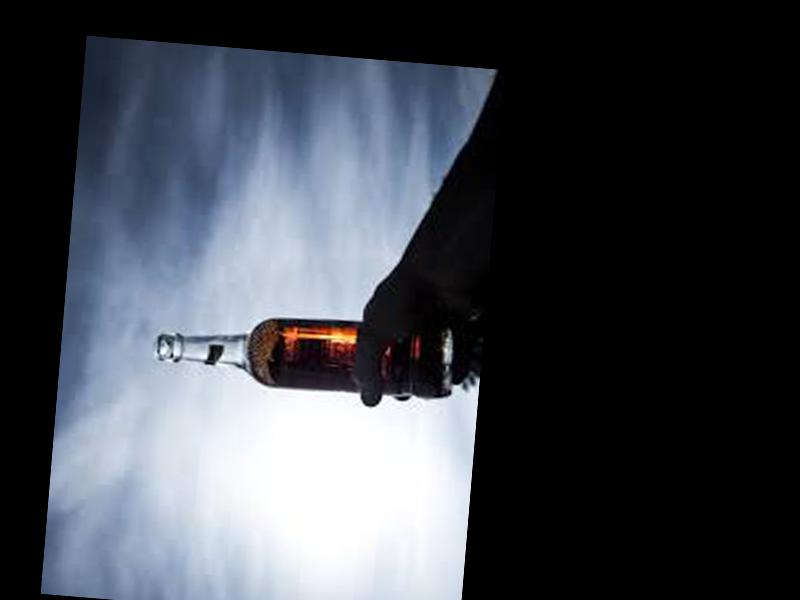Beer: (153, 304, 452, 398)
